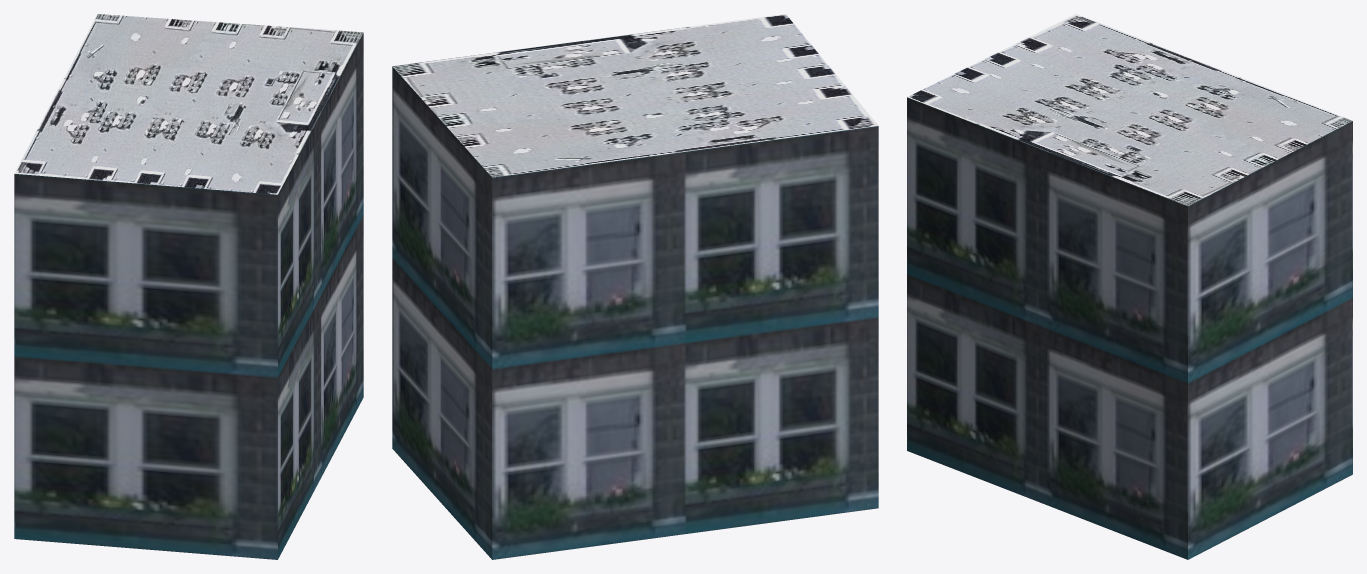
The model's file is ResTex__2898.fbx.
3 renders of one model, left to right at view 1: azimuth 30°, elevation 25°; view 2: azimuth 150°, elevation 25°; view 3: azimuth 270°, elevation 25°, orthographic. The views are drawn at different scales.
Visible parts, largest first — view 1: CityEngineMaterial_11_m, CityEngineMaterial_8_m; view 2: CityEngineMaterial_11_m, CityEngineMaterial_8_m; view 3: CityEngineMaterial_11_m, CityEngineMaterial_8_m.
Part boxes in pixels (x1=…): CityEngineMaterial_11_m: x1=14, y1=33, x2=363, y2=559; CityEngineMaterial_8_m: x1=14, y1=14, x2=363, y2=194; CityEngineMaterial_11_m: x1=392, y1=66, x2=878, y2=559; CityEngineMaterial_8_m: x1=392, y1=14, x2=878, y2=177; CityEngineMaterial_11_m: x1=907, y1=97, x2=1352, y2=559; CityEngineMaterial_8_m: x1=907, y1=14, x2=1352, y2=205.
Size of the model in its own units: 7 by 6 by 6.86.
2 materials, 2 textured.
